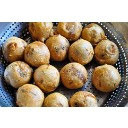bonda: (92, 63, 120, 91), (4, 60, 29, 86), (34, 64, 60, 89), (44, 34, 67, 59), (70, 39, 94, 61), (98, 39, 121, 61), (2, 35, 24, 57), (43, 93, 69, 107)
